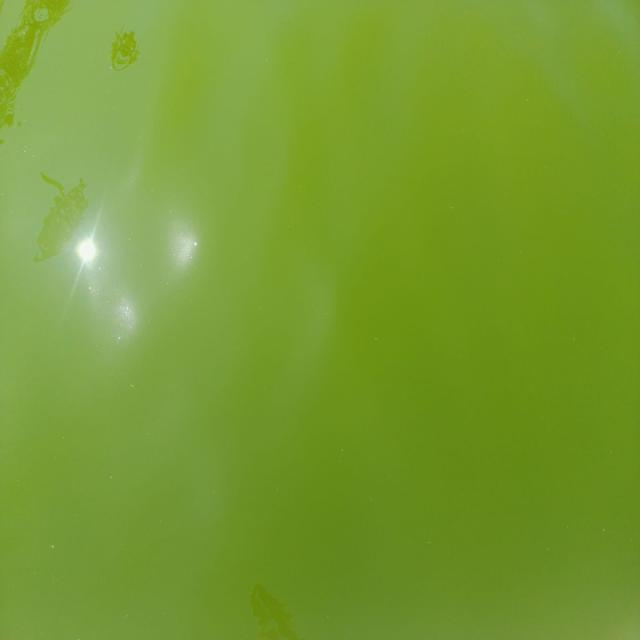Ponds: (1, 1, 640, 640)
